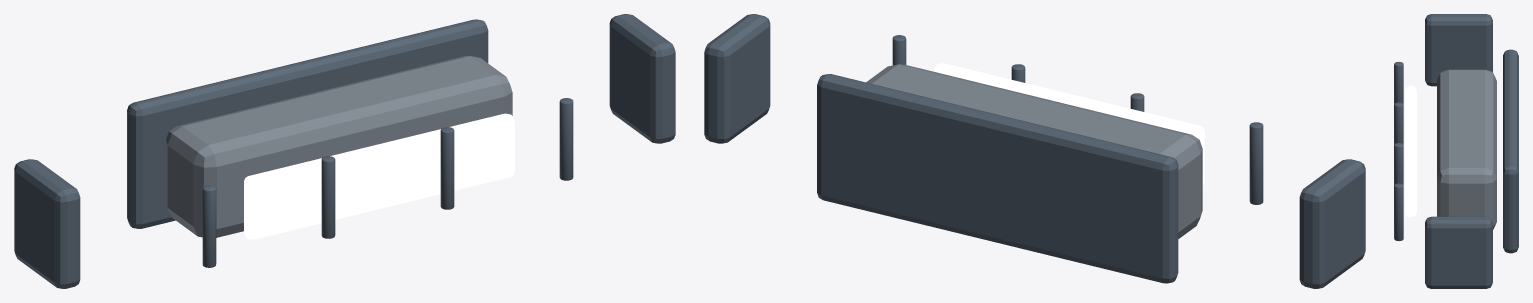
File: p1_corridor_light_fixture.glb
3 renders of one model, left to right at view 1: azimuth 30°, elevation 25°; view 2: azimuth 150°, elevation 25°; view 3: azimuth 270°, elevation 25°, orthographic. The views are drawn at different scales.
Parts seen in each view (by area): view 1: housing, mount_plate, diffuser, endcap_1, endcap_-1, cage_0.06, cage_-0.06, cage_-0.18, cage_0.18; view 2: mount_plate, housing, endcap_1, endcap_-1, diffuser, cage_-0.18, cage_0.18; view 3: housing, endcap_1, endcap_-1, mount_plate, diffuser, cage_0.18, cage_-0.06, cage_0.06, cage_-0.18.
Boxes of the visible parts, <box> form: housing: <box>166,56,512,237</box>; mount_plate: <box>127,19,488,228</box>; diffuser: <box>244,113,514,239</box>; endcap_1: <box>609,14,675,143</box>; endcap_-1: <box>14,159,80,288</box>; cage_0.06: <box>440,127,454,209</box>; cage_-0.06: <box>321,156,335,238</box>; cage_-0.18: <box>202,185,216,267</box>; cage_0.18: <box>559,98,573,180</box>; mount_plate: <box>817,74,1178,283</box>; housing: <box>866,64,1202,238</box>; endcap_1: <box>704,14,770,143</box>; endcap_-1: <box>1299,159,1365,288</box>; diffuser: <box>934,63,1204,185</box>; cage_-0.18: <box>1249,122,1263,204</box>; cage_0.18: <box>892,35,906,65</box>; housing: <box>1437,69,1496,229</box>; endcap_1: <box>1425,216,1492,288</box>; endcap_-1: <box>1425,14,1492,86</box>; mount_plate: <box>1503,49,1518,253</box>; diffuser: <box>1405,86,1416,216</box>; cage_0.18: <box>1394,183,1403,240</box>; cage_-0.06: <box>1394,102,1403,144</box>; cage_0.06: <box>1394,143,1403,185</box>; cage_-0.18: <box>1394,62,1403,104</box>.
Bounding box in the file's own units: 0.625 × 0.12 × 0.156.
